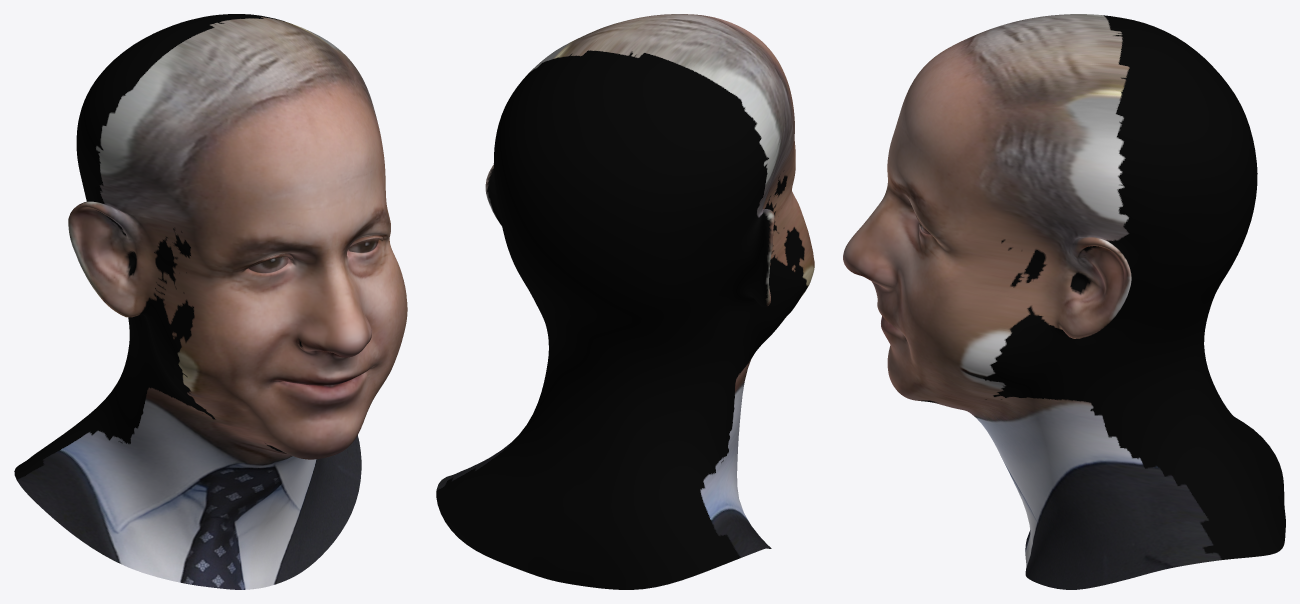
The picture shows the model from 3 angles, left to right: view 1: azimuth 30°, elevation 25°; view 2: azimuth 150°, elevation 25°; view 3: azimuth 270°, elevation 25°; orthographic projection. The views are drawn at different scales.
Visible parts, largest first — view 1: FBHead.001; view 2: FBHead.001; view 3: FBHead.001.
Part boxes in pixels (x1=…): FBHead.001: x1=14, y1=14, x2=407, y2=589; FBHead.001: x1=436, y1=14, x2=814, y2=589; FBHead.001: x1=843, y1=14, x2=1285, y2=589.
Bounding box in the file's own units: 1.65 × 2.62 × 1.98.
Materials: 1 (1 with a texture image).
